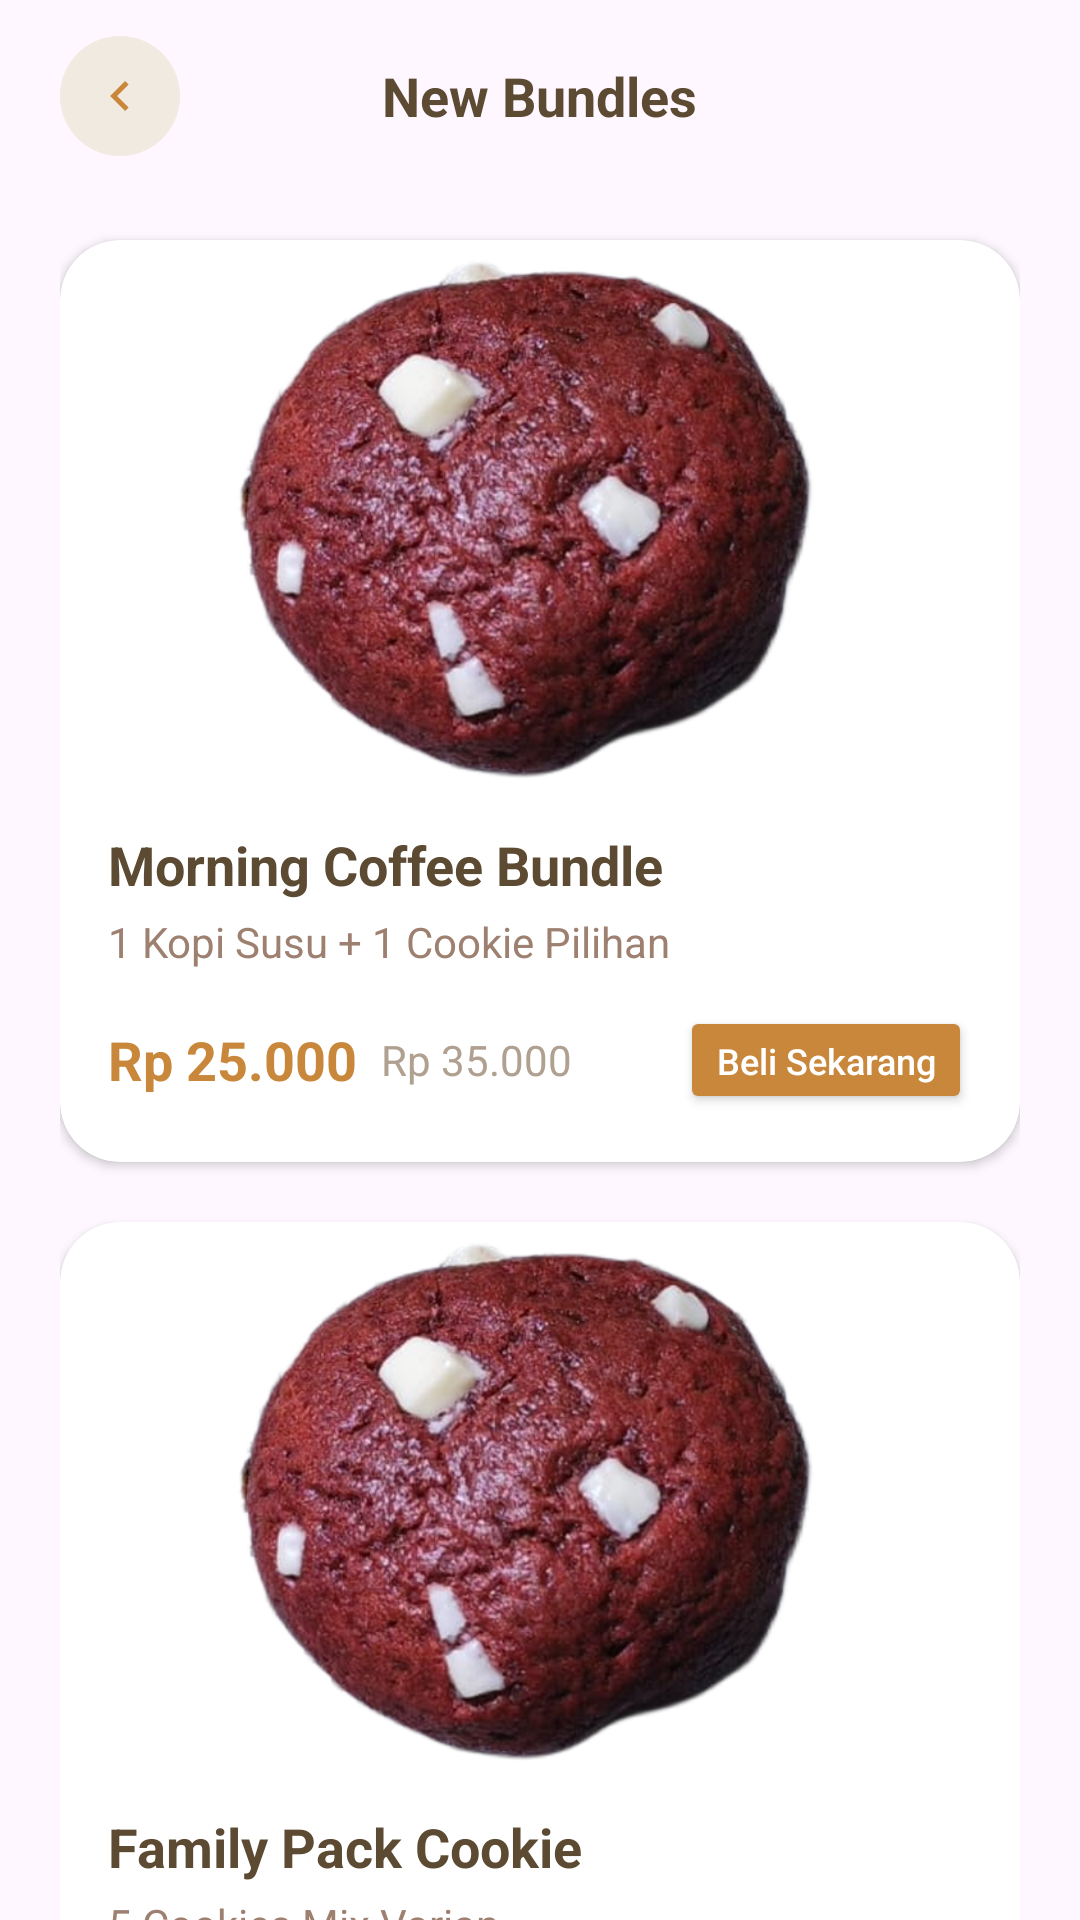

Screen size 1080*1920. Icon name, then its center in pixels as [x,y]:
arrow left: [120,96]
